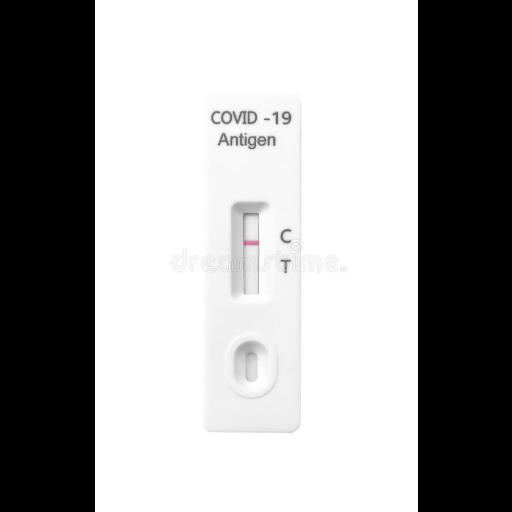Neg: (208, 100, 298, 432)
